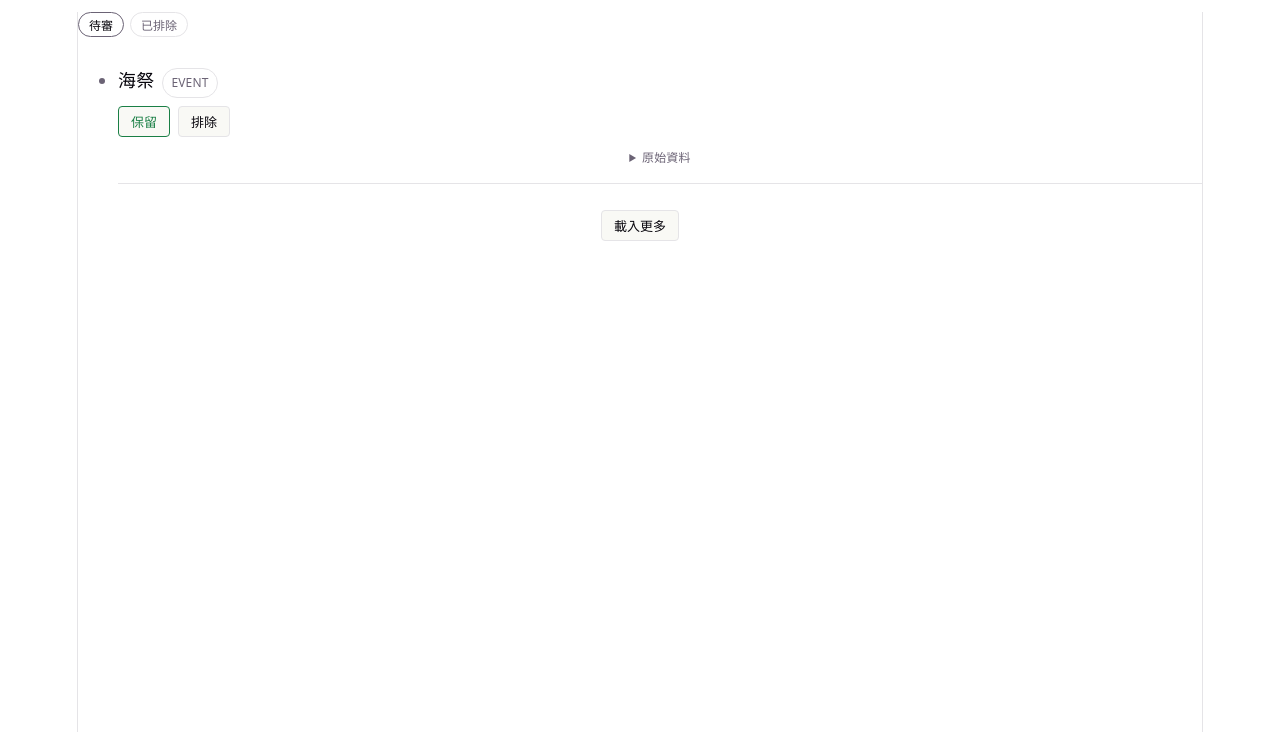
EntityReview › fails loud when the active build changes between pages (the pin rides the pageParam)
Expected: the text "海祭" is shown, 118,67 -> 154,93
Click the button "載入更多". click: (640, 226)
box: 601,210 -> 679,241
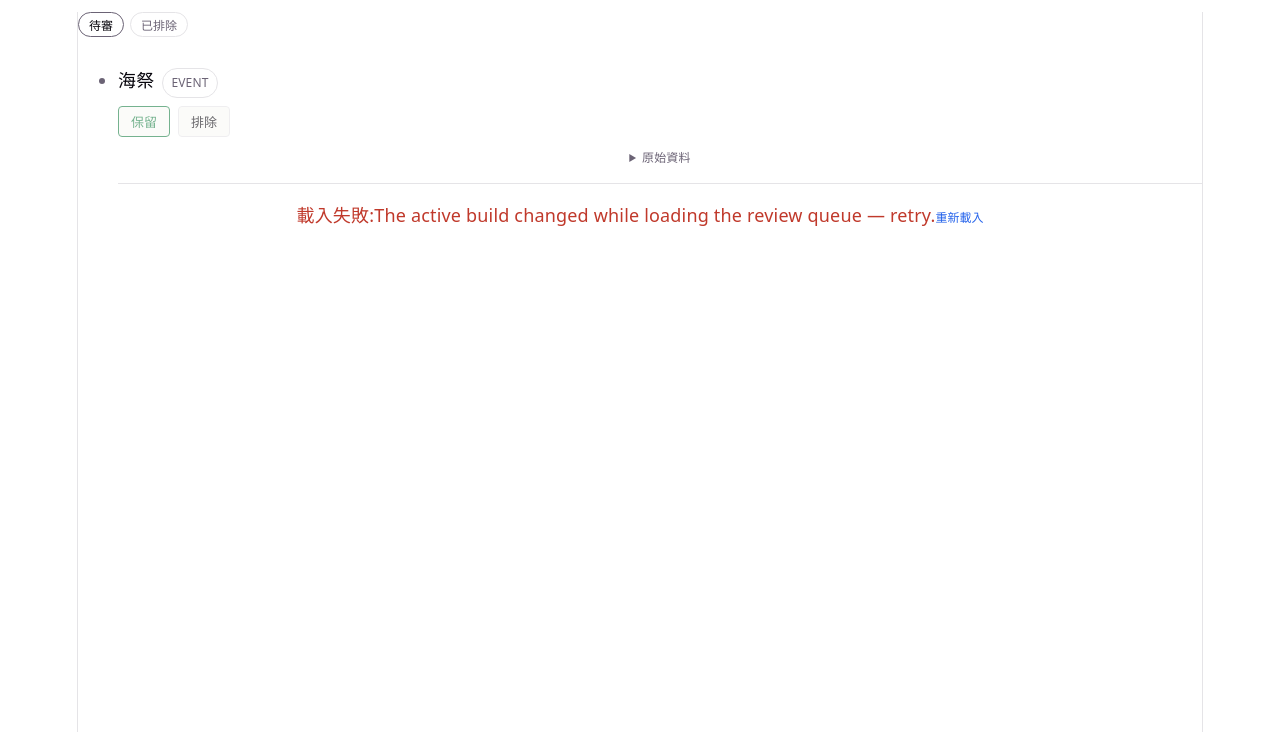
Expected: the text "海祭" is shown, 118,67 -> 154,93
Expected: the text "active build changed" is shown, 374,203 -> 936,227
